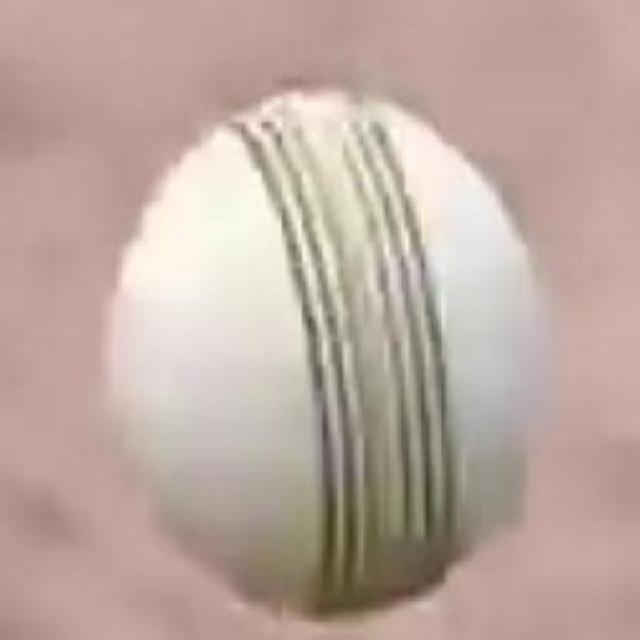-: (112, 75, 549, 606)
